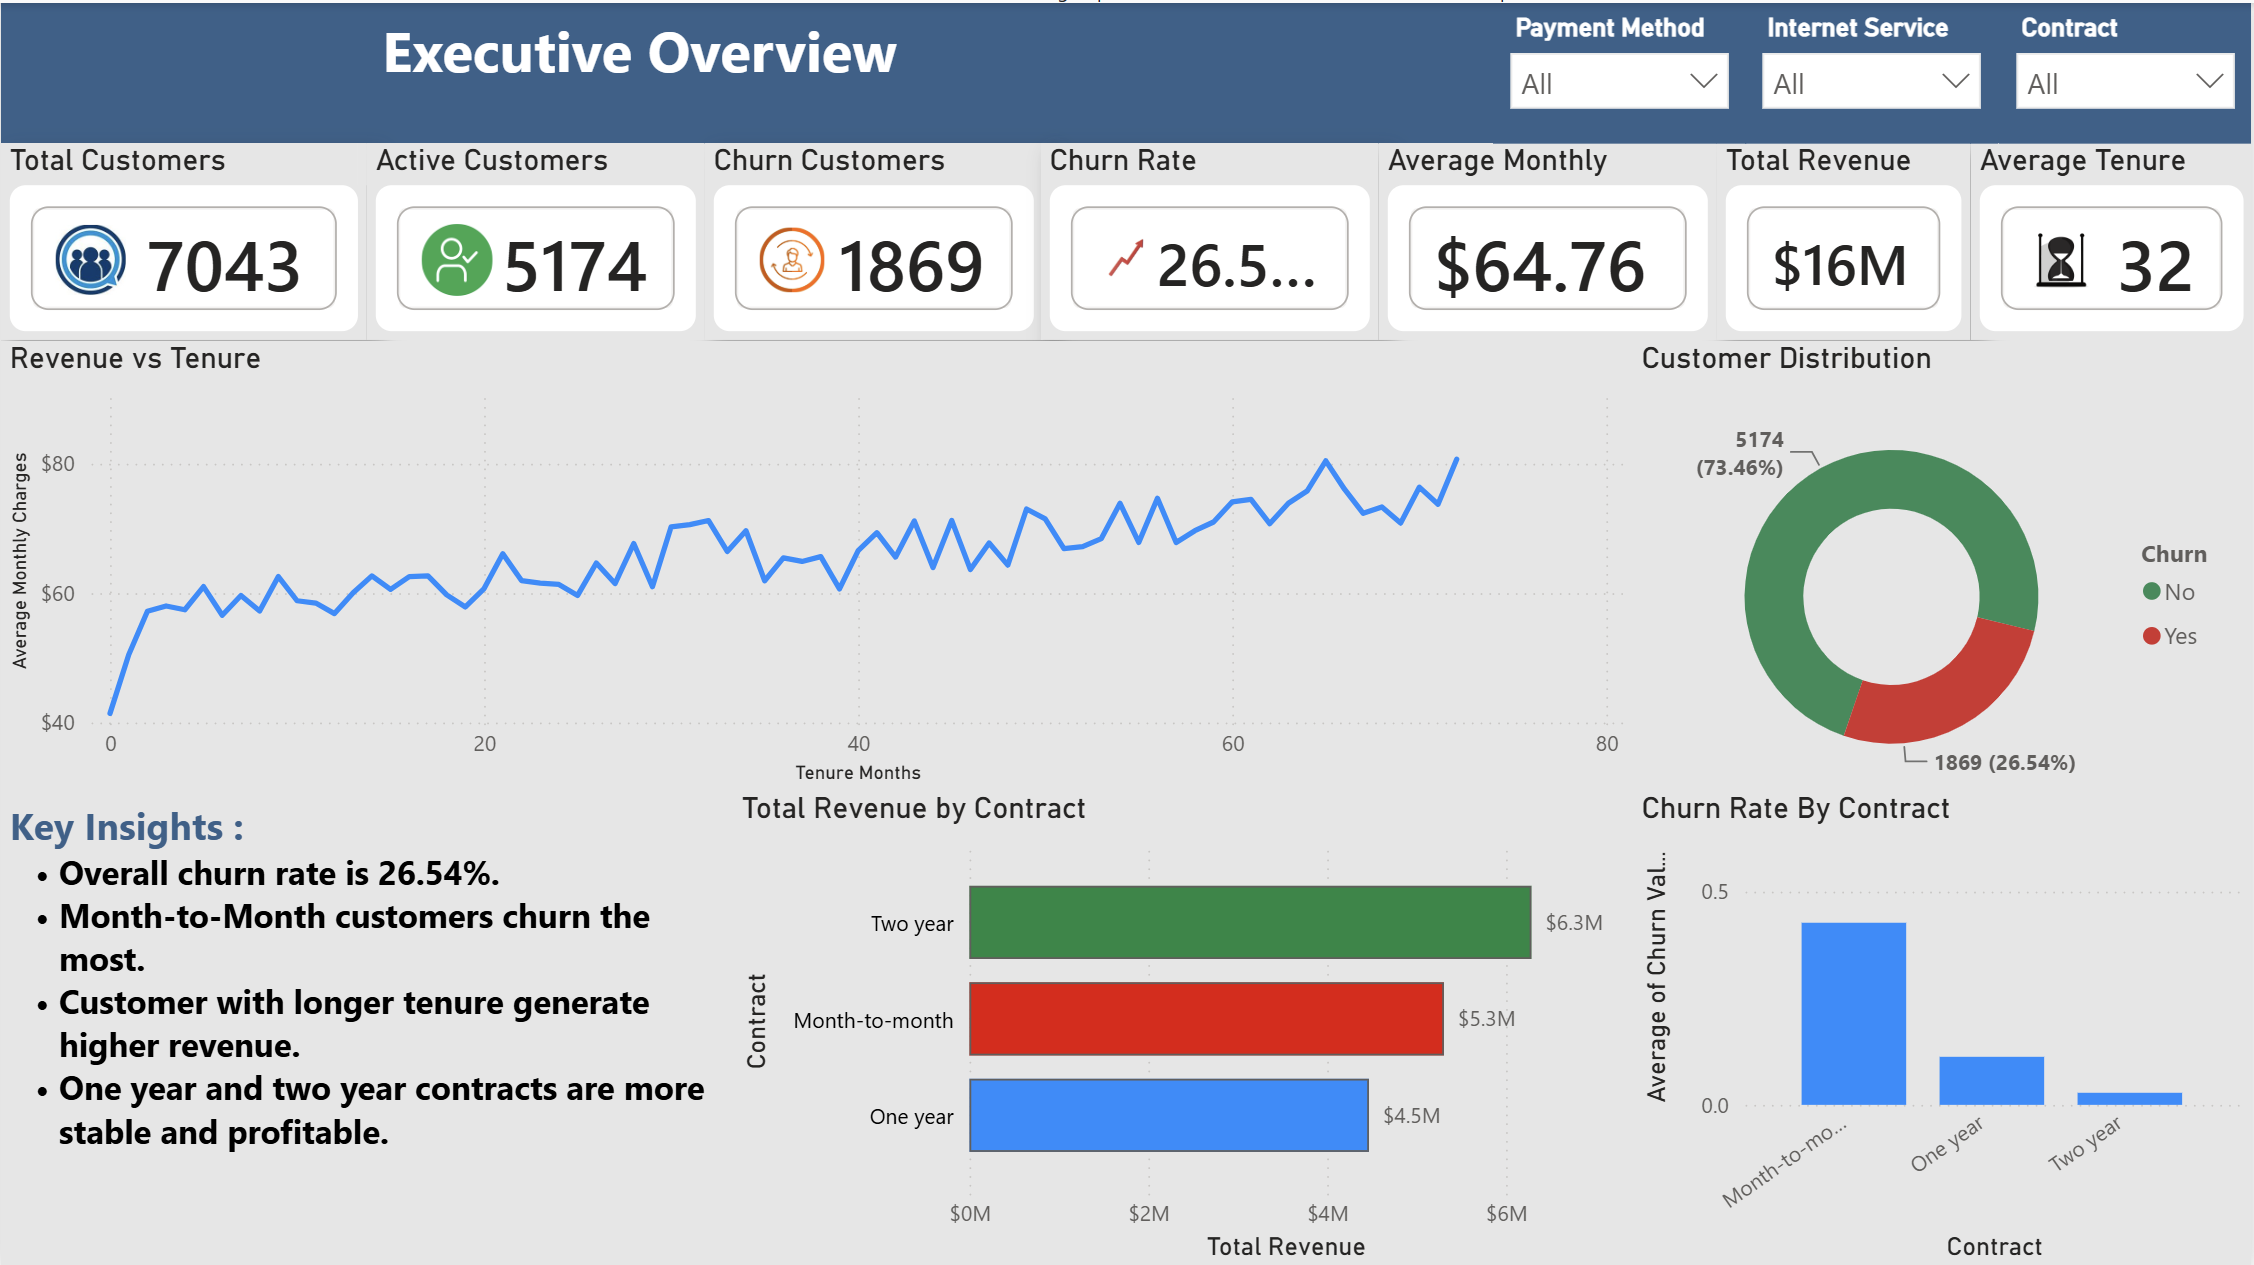

The dashboard page shown, as its layout file describes it:
{"tool":"powerbi","page":{"name":"Executive Overview","canvas":[1280,720],"ordinal":0},"visuals":[{"type":"textbox","box":[0,0,1280,80],"z":0},{"type":"cardVisual","title":"Total Customers","fields":{"Data":["Measures_Table.Total Customers"]},"box":[0,80,208,112],"z":1000},{"type":"cardVisual","title":"Churn Customers","fields":{"Data":["Measures_Table.Churn Customers"]},"box":[400,80,192,112],"z":2000},{"type":"cardVisual","title":"Active Customers","fields":{"Data":["Measures_Table.Active Customers"]},"box":[208,80,192,112],"z":3000},{"type":"cardVisual","title":"Churn Rate","fields":{"Data":["Measures_Table.Churn Rate %"]},"box":[592,80,192,112],"z":4000},{"type":"cardVisual","title":"Total Revenue","fields":{"Data":["Measures_Table.Total Revenue"]},"box":[976,80,144,112],"z":5000},{"type":"cardVisual","title":"Average Monthly","fields":{"Data":["Measures_Table.Average Monthly Charges"]},"box":[784,80,192,112],"z":6000},{"type":"cardVisual","title":"Average Tenure","fields":{"Data":["Measures_Table.Average Tenure"]},"box":[1120,80,160,112],"z":7000},{"type":"donutChart","title":"Customer Distribution","fields":{"Category":["telco_customer_clean.Churn Label"],"Y":["Sum(telco_customer_clean.Count)"]},"box":[928,192,352,272],"z":8000},{"type":"clusteredBarChart","fields":{"Category":["telco_customer_clean.Contract"],"Y":["Measures_Table.Total Revenue"]},"box":[416,448,512,272],"z":9000},{"type":"clusteredColumnChart","title":"Churn Rate By Contract","fields":{"Category":["telco_customer_clean.Contract"],"Y":["Avg(telco_customer_clean.Churn Value)"]},"box":[928,448,352,272],"z":10000},{"type":"lineChart","title":"Revenue vs Tenure","fields":{"Category":["telco_customer_clean.Tenure Months"],"Y":["Measures_Table.Average Monthly Charges"]},"box":[0,192,928,256],"z":11000},{"type":"slicer","fields":{"Values":["telco_customer_clean.Contract"]},"box":[1136,0,144,80],"z":12000},{"type":"slicer","fields":{"Values":["telco_customer_clean.Internet Service"]},"box":[992,0,144,80],"z":13000},{"type":"slicer","fields":{"Values":["telco_customer_clean.Payment Method"]},"box":[848,0,144,80],"z":14000},{"type":"textbox","box":[0,448,416,272],"z":15000}]}

Visuals, with their boxes in screenshot pixels (x1, y1, x2, y2), scaled from the page's 1280x720 canvas onto the 2254x1265 screenshot:
textbox: select_region(0, 0, 2253, 141)
"Total Customers" cardVisual: select_region(0, 141, 366, 337)
"Churn Customers" cardVisual: select_region(704, 141, 1042, 337)
"Active Customers" cardVisual: select_region(366, 141, 704, 337)
"Churn Rate" cardVisual: select_region(1042, 141, 1381, 337)
"Total Revenue" cardVisual: select_region(1719, 141, 1972, 337)
"Average Monthly" cardVisual: select_region(1381, 141, 1719, 337)
"Average Tenure" cardVisual: select_region(1972, 141, 2253, 337)
"Customer Distribution" donutChart: select_region(1634, 337, 2253, 815)
clusteredBarChart - telco_customer_clean.Contract x Measures_Table.Total Revenue: select_region(733, 787, 1634, 1264)
"Churn Rate By Contract" clusteredColumnChart: select_region(1634, 787, 2253, 1264)
"Revenue vs Tenure" lineChart: select_region(0, 337, 1634, 787)
slicer - telco_customer_clean.Contract: select_region(2000, 0, 2253, 141)
slicer - telco_customer_clean.Internet Service: select_region(1747, 0, 2000, 141)
slicer - telco_customer_clean.Payment Method: select_region(1493, 0, 1747, 141)
textbox: select_region(0, 787, 733, 1264)
